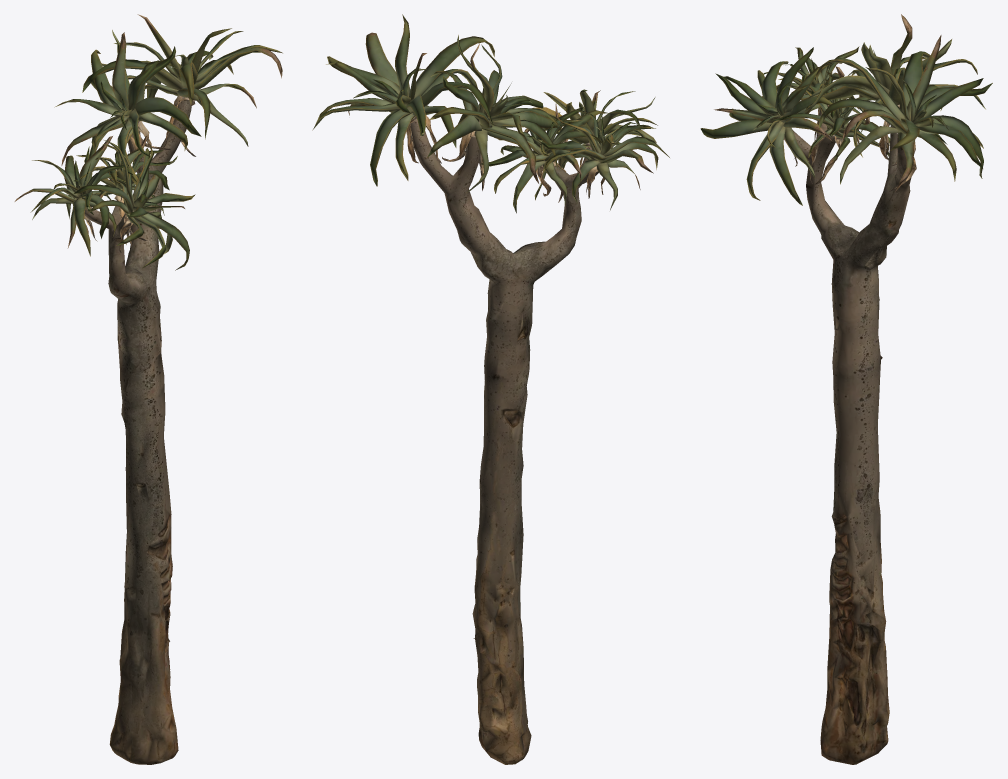
File: desert_quiver_a.glb
3 renders of one model, left to right at view 1: azimuth 30°, elevation 25°; view 2: azimuth 150°, elevation 25°; view 3: azimuth 270°, elevation 25°, orthographic. The views are drawn at different scales.
Parts seen in each view (by area): view 1: quiver_tree_01; view 2: quiver_tree_01; view 3: quiver_tree_01.
Part boxes in pixels (x1,y1,x2,y2): quiver_tree_01: (14,14,282,764); quiver_tree_01: (312,14,669,764); quiver_tree_01: (700,14,992,764).
Size of the model in its own units: 1.18 by 2.72 by 0.9673.
Materials: 2 (2 with a texture image).
